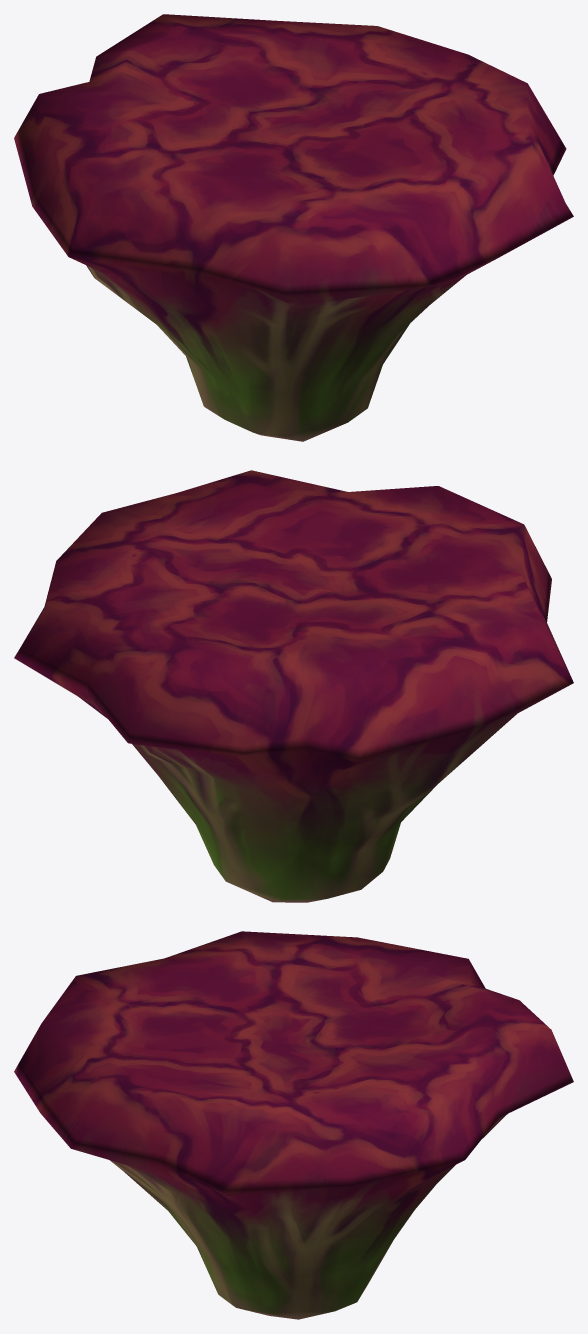
Rendered from alface inteira.fbx.
3 views of the same model, one above another, from view 1: azimuth 30°, elevation 25°; view 2: azimuth 150°, elevation 25°; view 3: azimuth 270°, elevation 25° (orthographic). The views are drawn at different scales.
Visible parts, largest first — view 1: alface_roxa:Group57405; view 2: alface_roxa:Group57405; view 3: alface_roxa:Group57405.
Boxes of the visible parts, x1,y1,x2,y2 form: alface_roxa:Group57405: (14, 14, 573, 441); alface_roxa:Group57405: (14, 470, 573, 902); alface_roxa:Group57405: (14, 931, 573, 1319).
Bounding box in the file's own units: 39.49 × 24.54 × 41.84.
